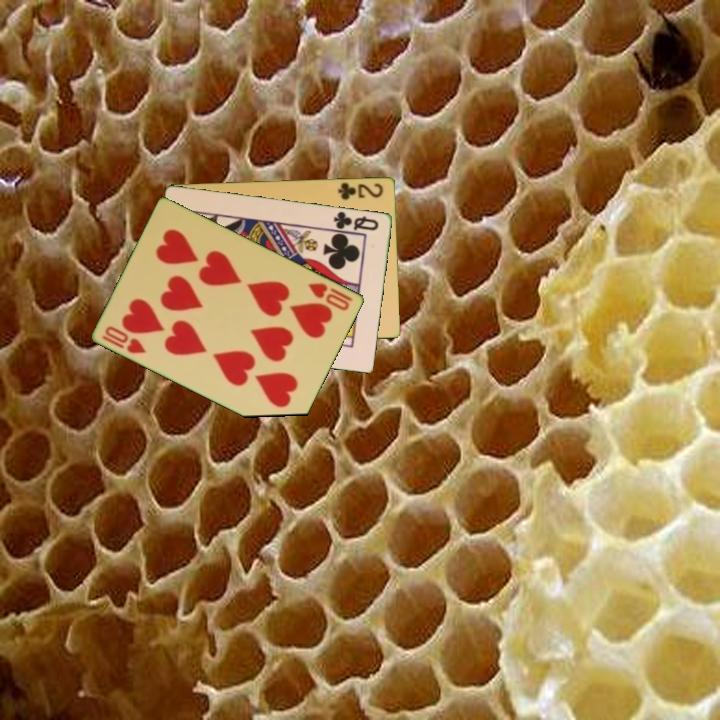10h: (99, 322, 150, 356), (305, 279, 353, 313)
2c: (335, 179, 386, 202)
Qc: (330, 208, 382, 233)
